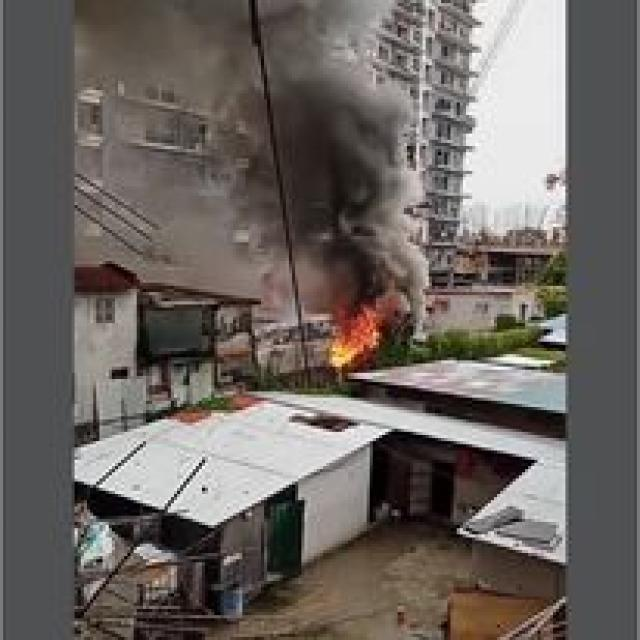Fire: (331, 281, 389, 368)
Smoke: (272, 2, 430, 322), (86, 6, 262, 268)
